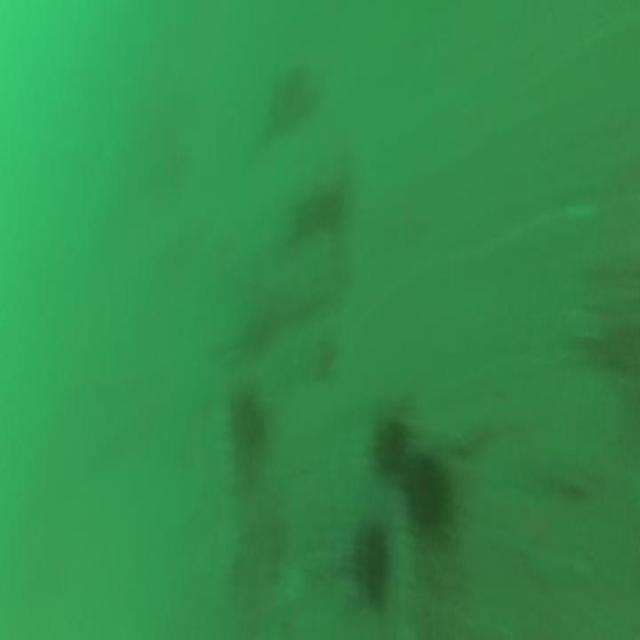echinus: (346, 510, 396, 615), (401, 446, 453, 536), (368, 403, 412, 484), (232, 386, 268, 472)
